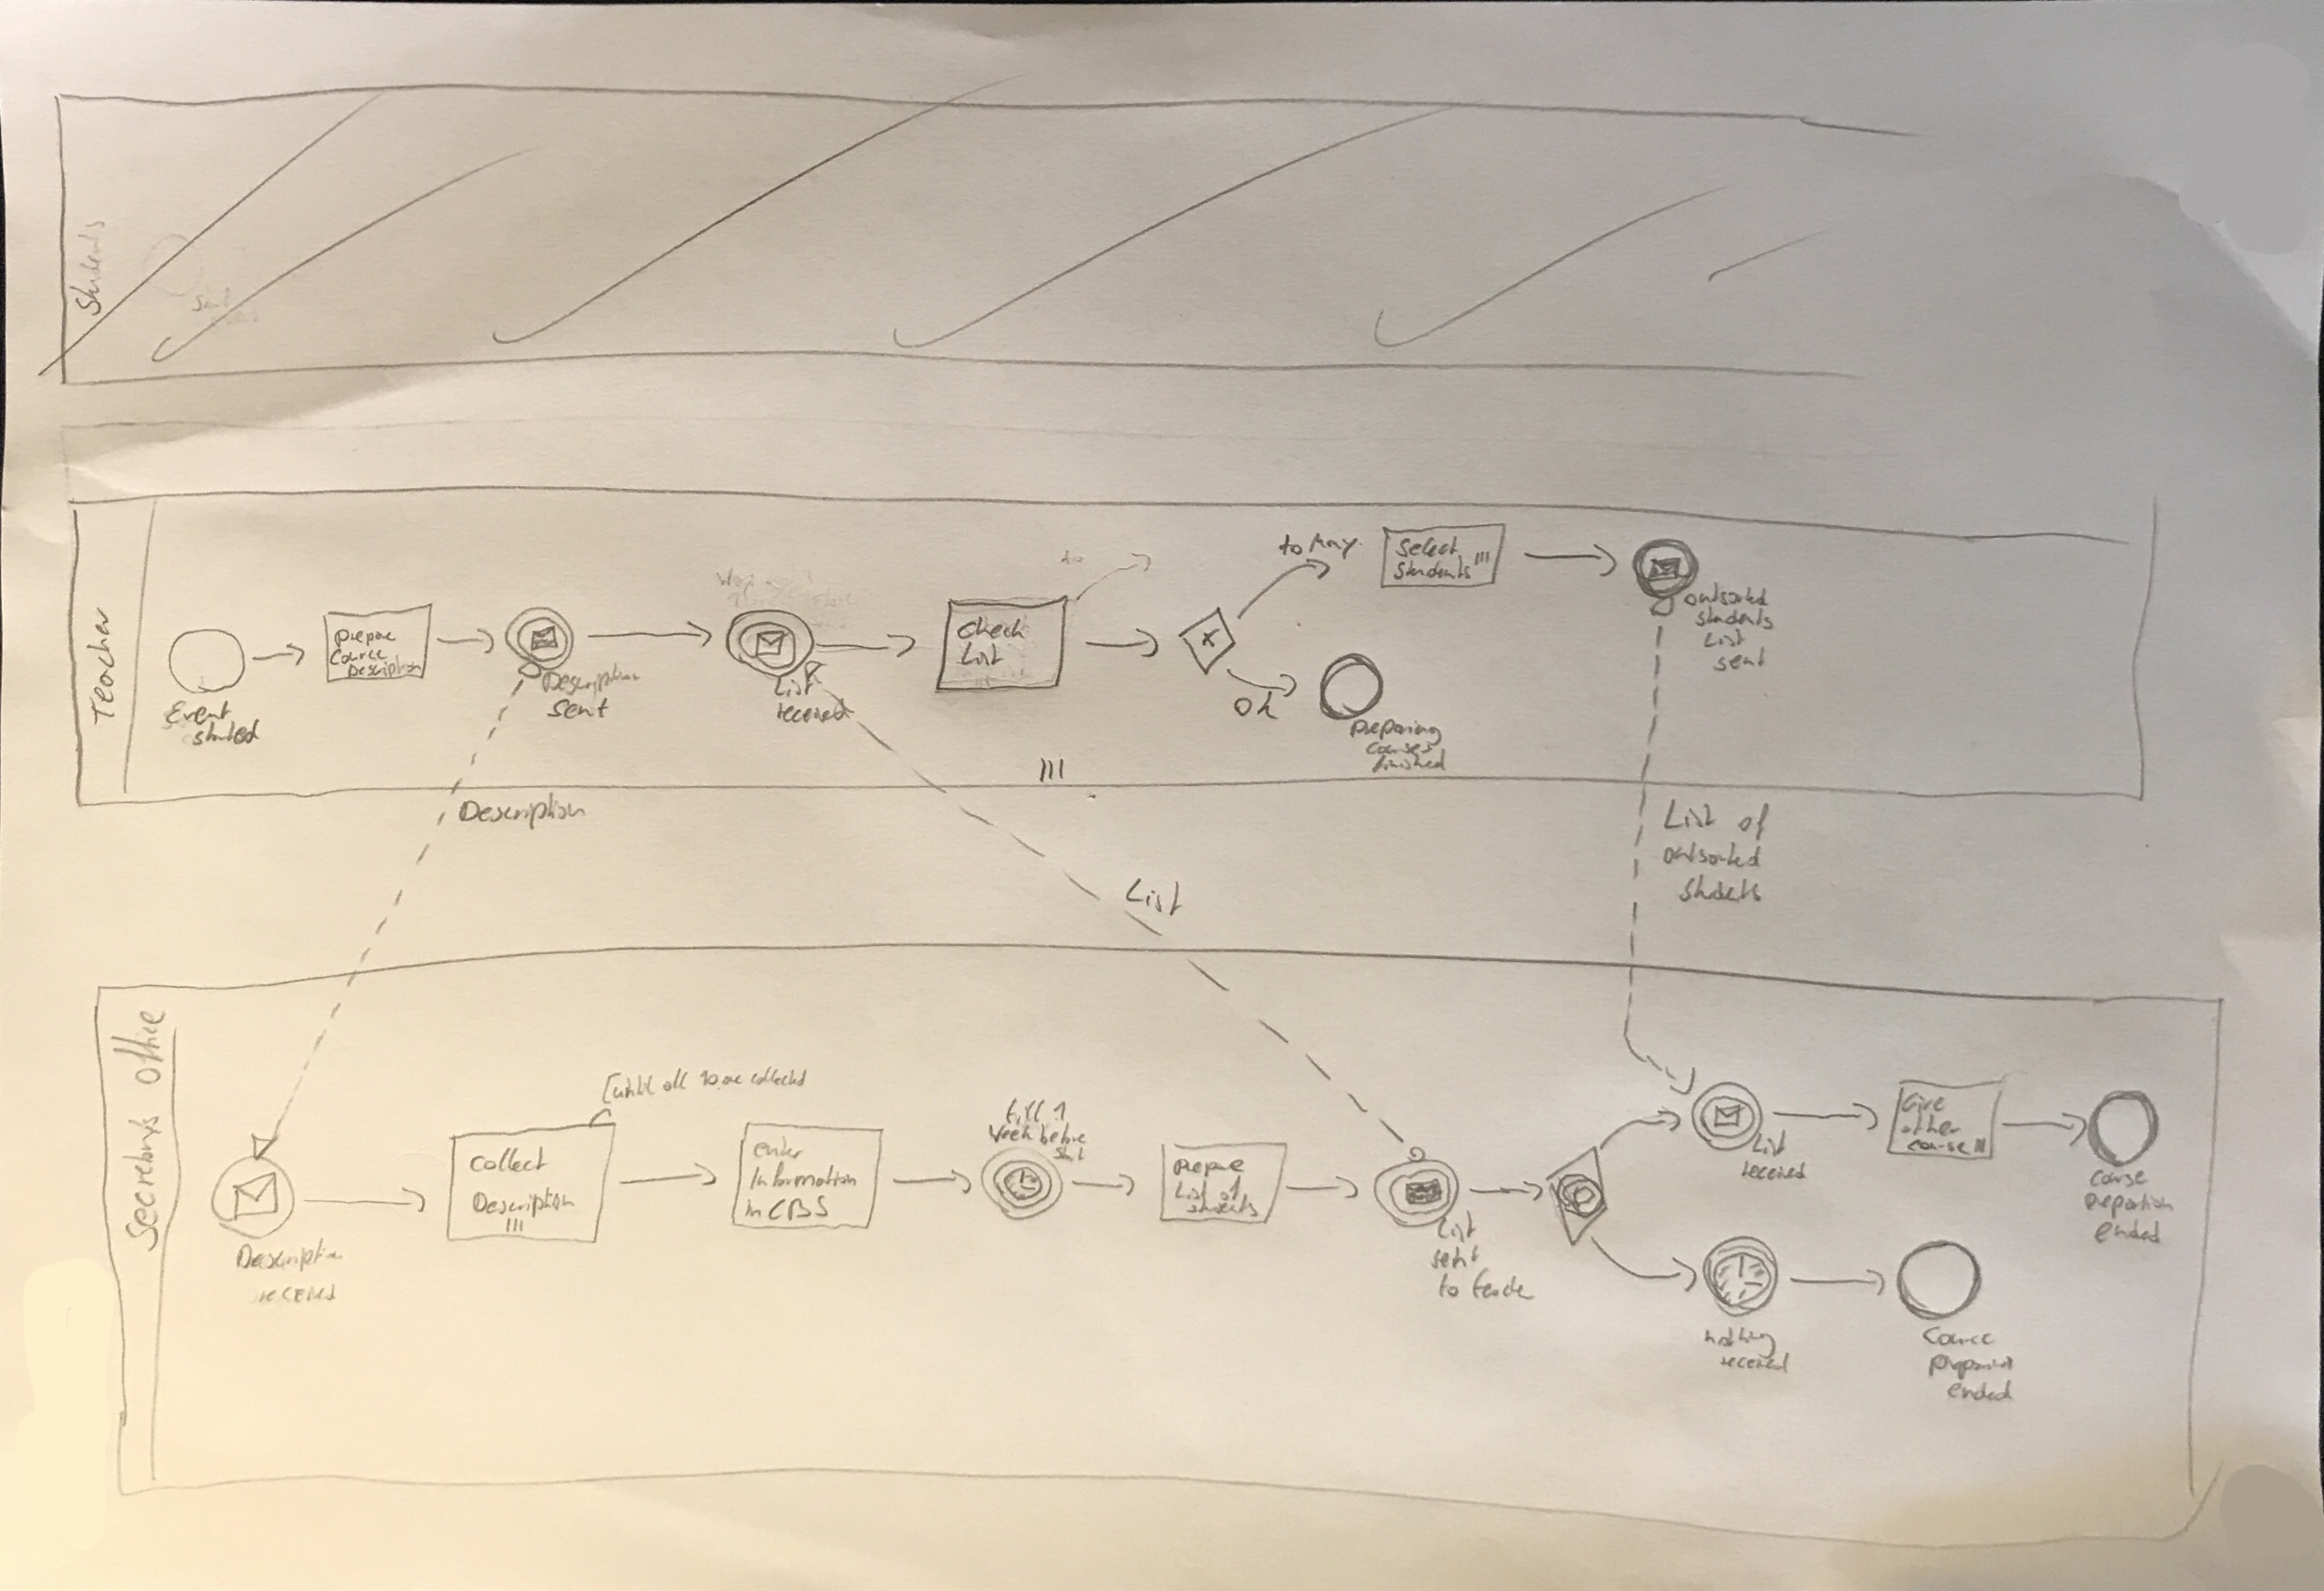1: (1054, 1096, 1073, 1121)
10: (698, 1061, 719, 1088)
CBS: (769, 1192, 831, 1219)
Course: (1922, 1324, 1993, 1348), (331, 651, 386, 666)
Description: (459, 794, 587, 831), (234, 1238, 344, 1275), (541, 661, 643, 695), (473, 1187, 576, 1216), (346, 657, 427, 676)
Event: (165, 700, 231, 724)
Give: (1902, 1091, 1948, 1115)
III: (1037, 756, 1067, 787), (506, 1216, 524, 1237), (1472, 545, 1489, 566), (1974, 1132, 1991, 1153)
Information: (746, 1161, 859, 1191)
List: (1142, 864, 1197, 904), (1661, 797, 1720, 830), (1699, 627, 1750, 651), (771, 672, 812, 698), (1752, 1128, 1788, 1156)
Secretary's: (122, 1113, 165, 1248)
Select: (1396, 535, 1461, 561)
Students: (1390, 557, 1473, 579)
Teacher: (86, 609, 117, 722)
[until: (601, 1069, 656, 1105)
all: (662, 1066, 692, 1092)
are: (720, 1067, 742, 1094)
before: (1037, 1124, 1090, 1146)
check: (957, 616, 1027, 643)
collect: (469, 1147, 548, 1175)
collected: (747, 1065, 811, 1088)
course: (1906, 1136, 1971, 1158), (2088, 1167, 2148, 1190)
courses: (1363, 740, 1433, 756)
ended: (2091, 1221, 2164, 1246), (1947, 1381, 2016, 1402)
enter: (753, 1133, 803, 1158)
finished: (1367, 751, 1449, 772)
in: (742, 1194, 763, 1219)
list: (1433, 1211, 1479, 1241), (957, 641, 1003, 669), (1173, 1180, 1213, 1203)
many: (1310, 533, 1363, 559)
nothing: (1700, 1326, 1778, 1358)
of: (1739, 802, 1776, 841), (1219, 1177, 1244, 1202)
office: (112, 1006, 167, 1084)
ok: (1232, 690, 1277, 719)
other: (1898, 1111, 1961, 1138)
outsorted: (1660, 840, 1763, 873), (1683, 582, 1769, 610)
preparation: (1928, 1352, 2014, 1377)
prepare: (1173, 1154, 1243, 1177), (333, 625, 396, 646)
preparing: (1347, 716, 1441, 741)
preportion: (2082, 1190, 2174, 1216)
receive: (775, 698, 849, 721)
received: (254, 1282, 339, 1308), (1715, 1352, 1790, 1374), (1739, 1161, 1808, 1182)
sent: (546, 695, 609, 721), (1710, 649, 1767, 673), (1429, 1243, 1481, 1269)
start: (1051, 1145, 1087, 1166)
started: (193, 721, 261, 745)
students: (1679, 876, 1762, 904), (1695, 605, 1775, 631), (1188, 1195, 1260, 1218)
teach: (1467, 1269, 1532, 1299)
till: (1002, 1096, 1047, 1124)
to: (1434, 1273, 1462, 1301), (1275, 533, 1302, 559)
week: (987, 1124, 1035, 1146)
